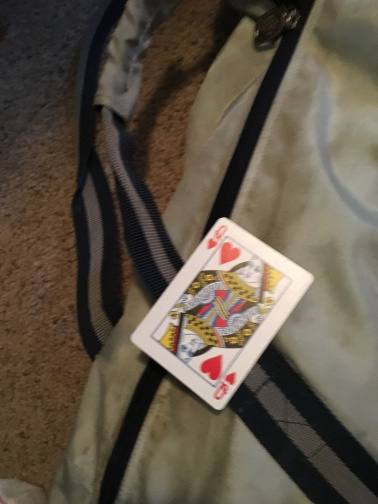queen: (126, 215, 314, 412)
